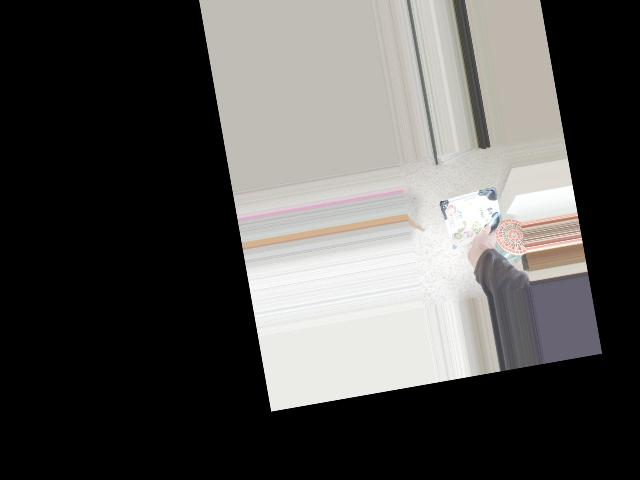cheese: (440, 198, 507, 267)
